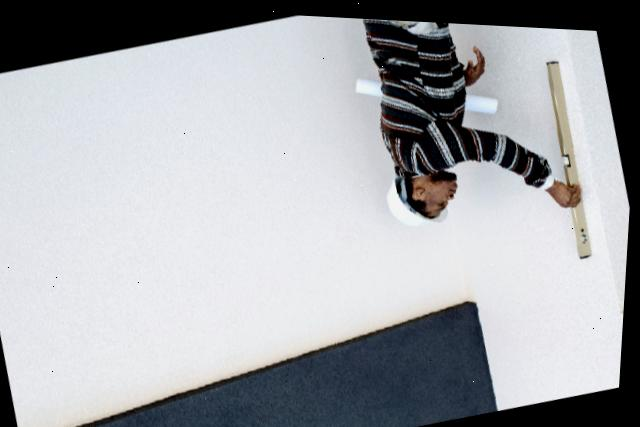helmet: (374, 164, 454, 232)
